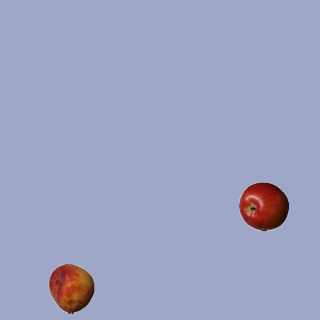Apple Braeburn: (238, 181, 288, 231)
Peach: (46, 263, 96, 313)
